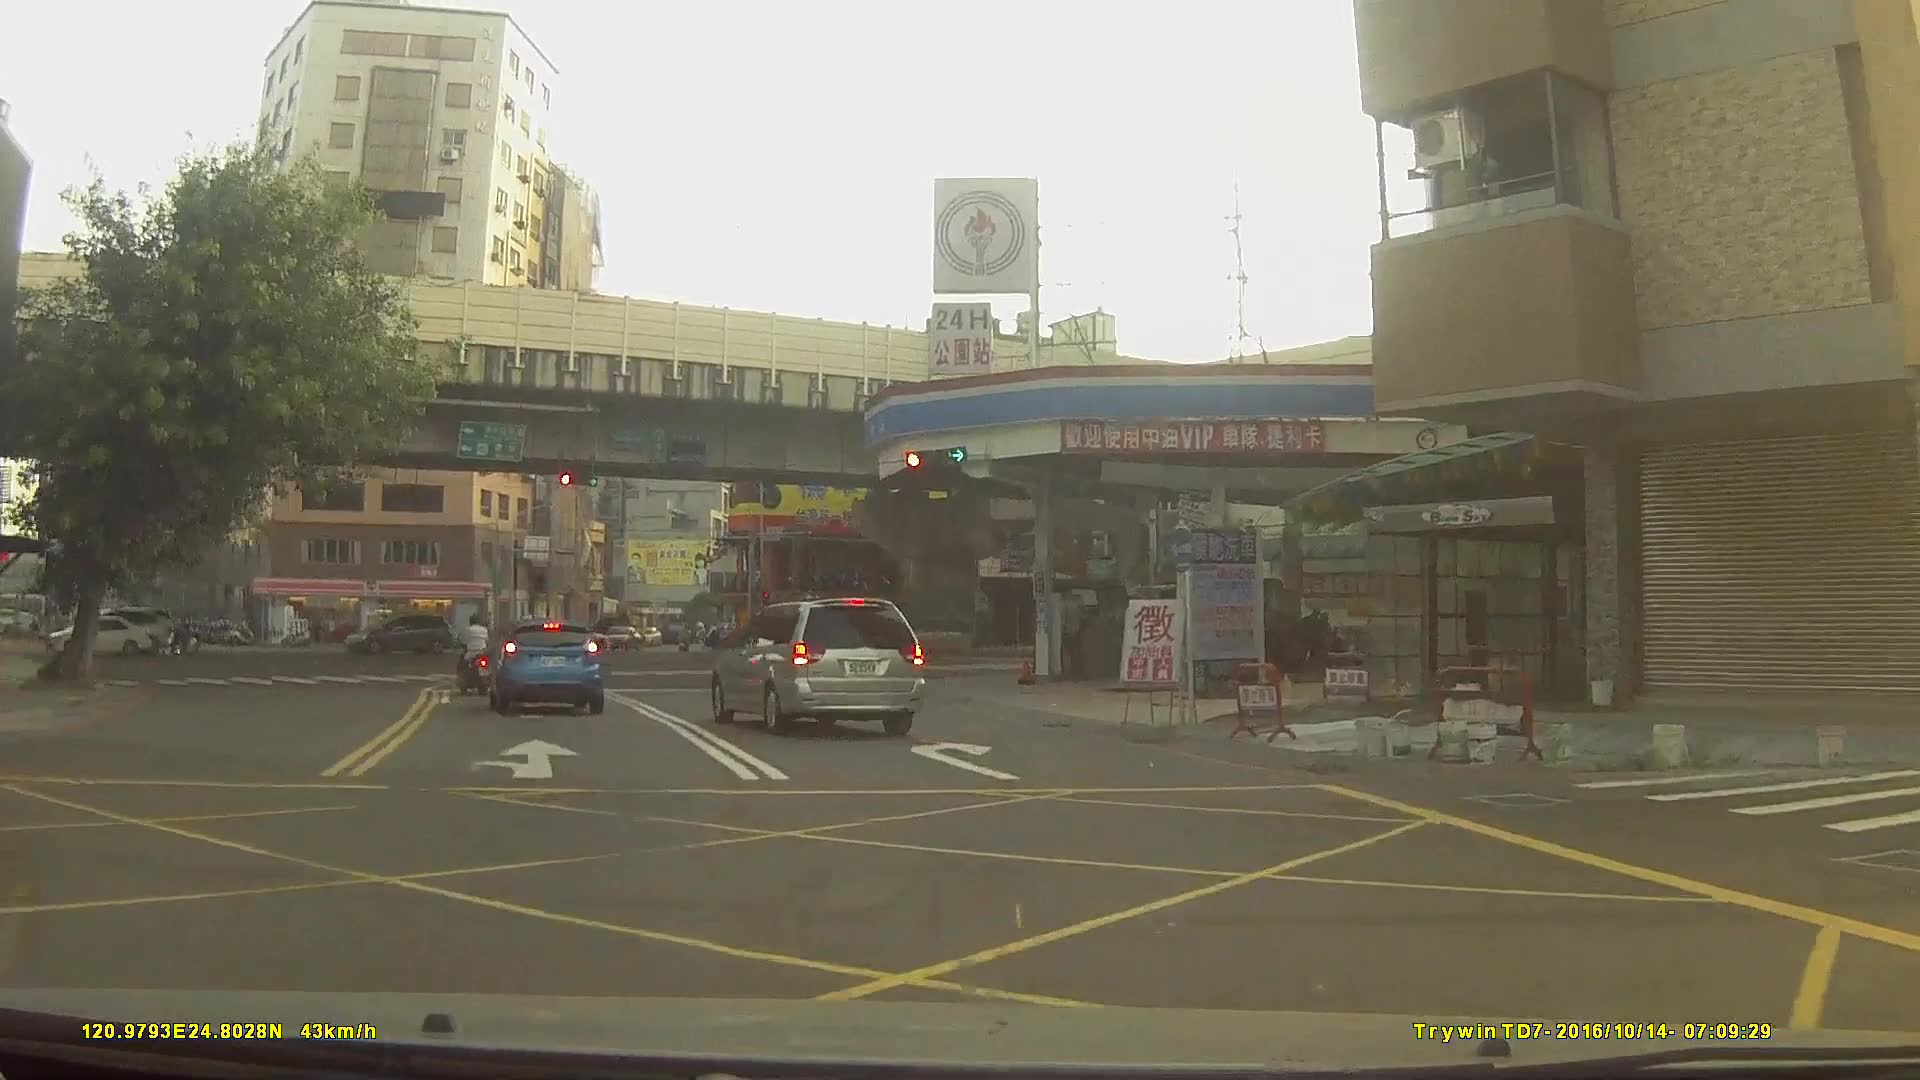rider: (456, 615, 496, 695), (165, 618, 193, 650)
vehicle: (710, 592, 925, 735), (488, 614, 606, 713), (343, 611, 452, 655), (46, 614, 151, 659), (527, 604, 607, 644)
